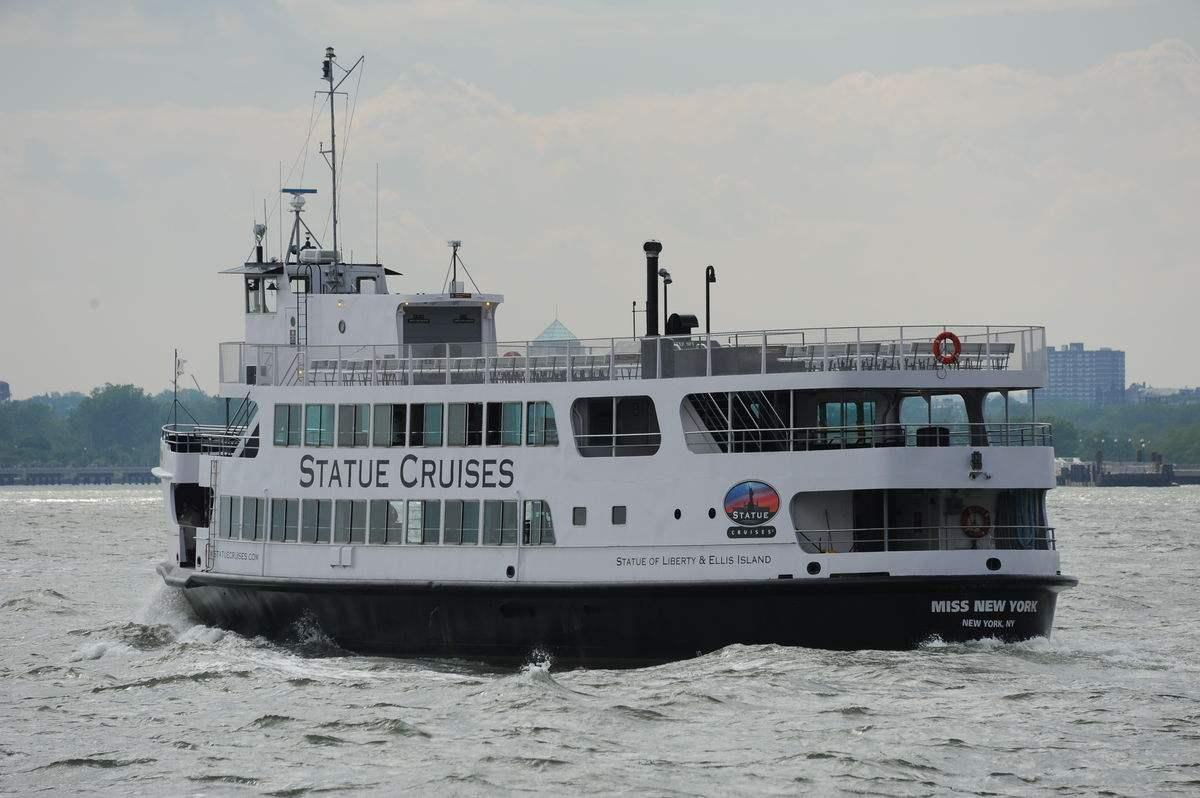otherboat: (165, 181, 1062, 648)
